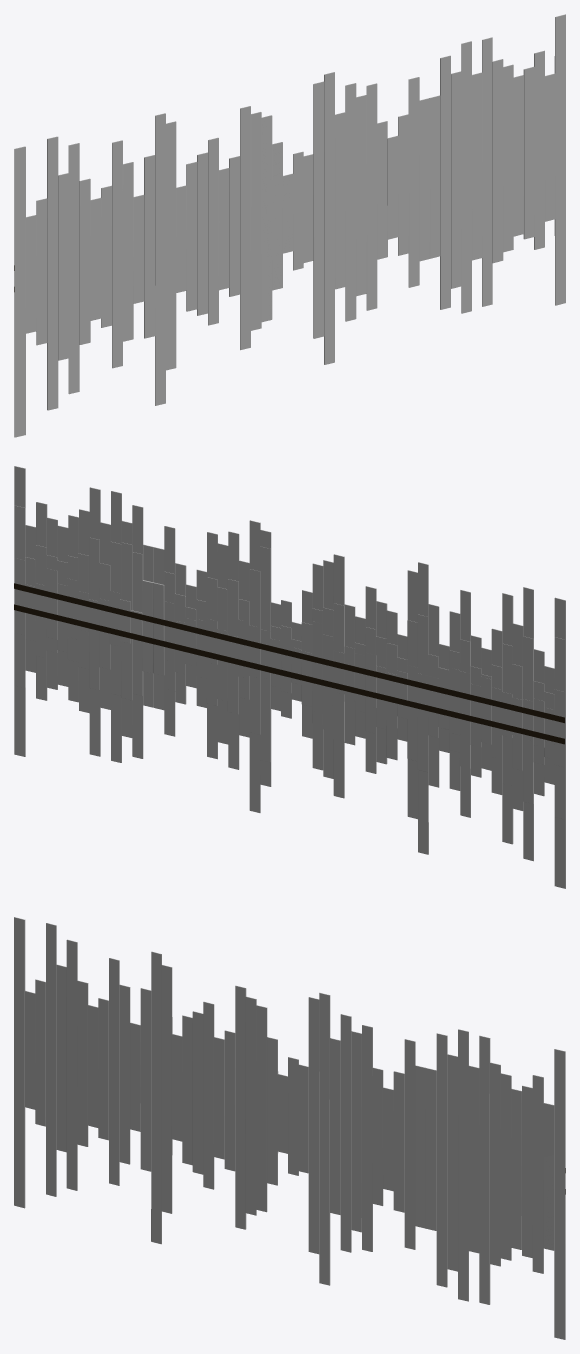
File: wood background.fbx
3 views of the same model, one above another, from view 1: azimuth 30°, elevation 25°; view 2: azimuth 150°, elevation 25°; view 3: azimuth 330°, elevation 25° (orthographic).
Parts seen in each view (by area): view 1: polySurface53; view 2: polySurface53, Object664; view 3: polySurface53.
Part boxes in pixels (x1,y1,x2,y2): polySurface53: (14, 14, 565, 437); polySurface53: (14, 466, 565, 888); Object664: (14, 583, 564, 744); polySurface53: (14, 917, 565, 1339).
Size of the model in its own units: 221 by 112 by 2.24.
